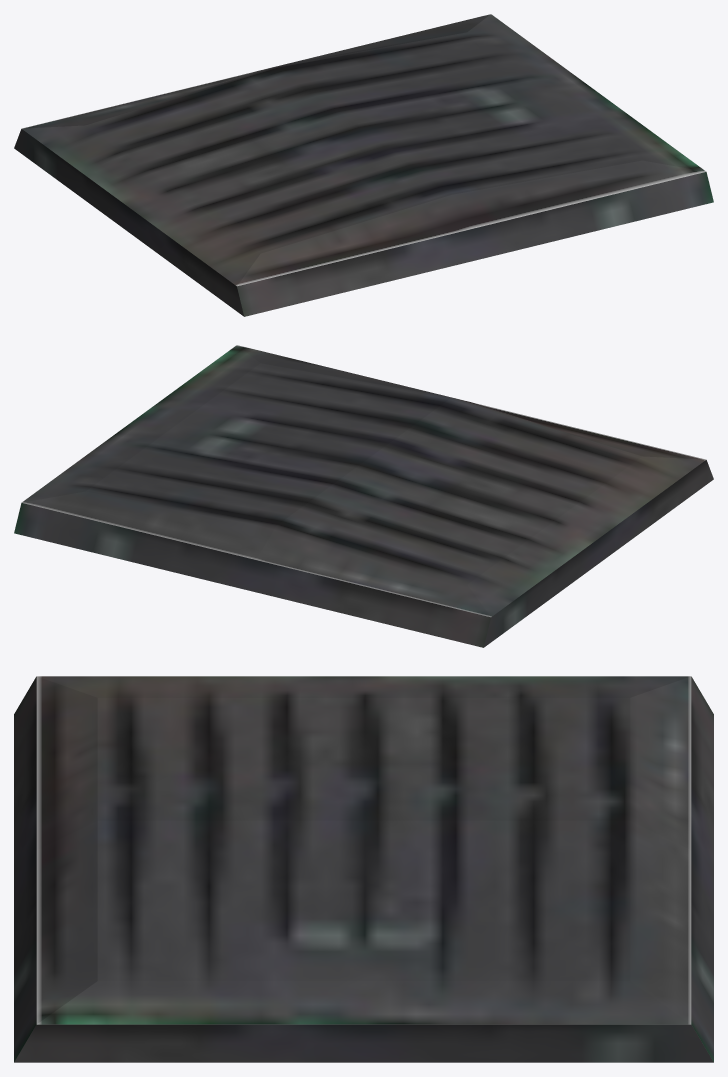
File: Urban_DumpsterLid1_Model.fbx
3 views of the same model, one above another, from view 1: azimuth 30°, elevation 25°; view 2: azimuth 150°, elevation 25°; view 3: azimuth 270°, elevation 25° (orthographic). The views are drawn at different scales.
Parts seen in each view (by area): view 1: Urban_DumpsterLid1_Mesh; view 2: Urban_DumpsterLid1_Mesh; view 3: Urban_DumpsterLid1_Mesh.
Part boxes in pixels (box(x1,y1,x2,y2)): Urban_DumpsterLid1_Mesh: box(14, 14, 713, 316); Urban_DumpsterLid1_Mesh: box(14, 345, 713, 647); Urban_DumpsterLid1_Mesh: box(14, 676, 713, 1062).
Size of the model in its own units: 1.93 by 0.1752 by 1.64.
